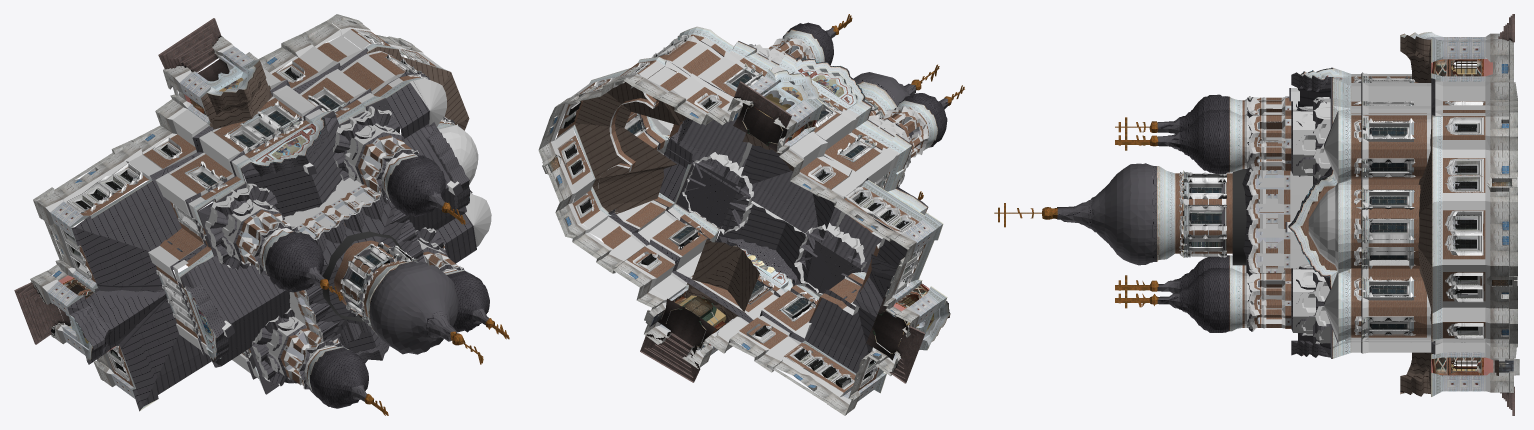
The model's file is Lossi_plats_10-origo.obj.
3 views of the same model, side by side, from view 1: azimuth 30°, elevation 25°; view 2: azimuth 150°, elevation 25°; view 3: azimuth 270°, elevation 25° (orthographic). The views are drawn at different scales.
Parts seen in each view (by area): view 1: Lossi_plats_10; view 2: Lossi_plats_10; view 3: Lossi_plats_10.
Boxes of the visible parts, x1=… form: Lossi_plats_10: x1=14, y1=14, x2=509, y2=415; Lossi_plats_10: x1=538, y1=14, x2=964, y2=415; Lossi_plats_10: x1=994, y1=14, x2=1519, y2=415.
Size of the model in its own units: 55.56 by 43 by 56.44.
